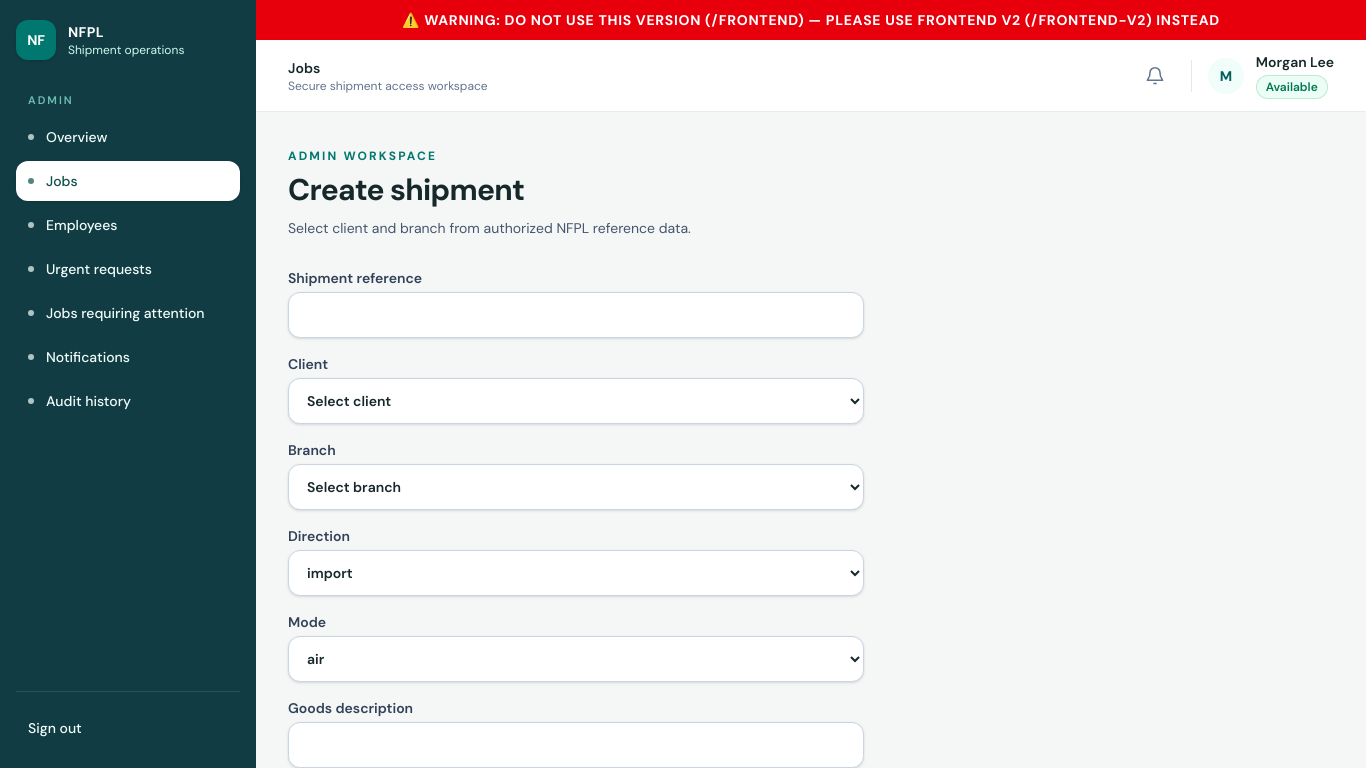
Test case: Phase 6B Admin workflows › creates a job using human-readable client and branch selections
This screenshot has width=1366, height=768.
Type "NFPL-104" into the field labelled "Shipment reference" at (576, 315), box x1=288 y1=292 x2=864 y2=338
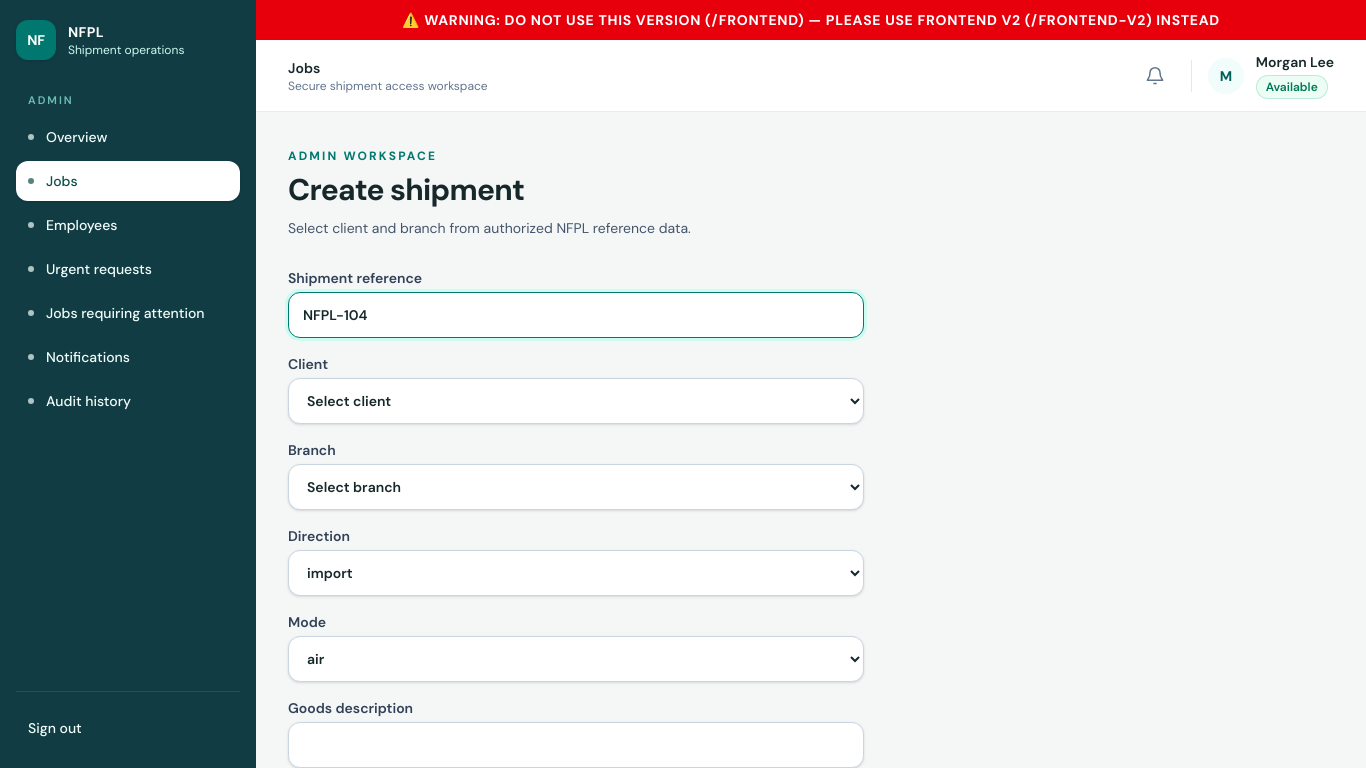
Select "Acme Imports (ACME)" in the dropdown labelled "Client" at (576, 401), box x1=288 y1=378 x2=864 y2=424
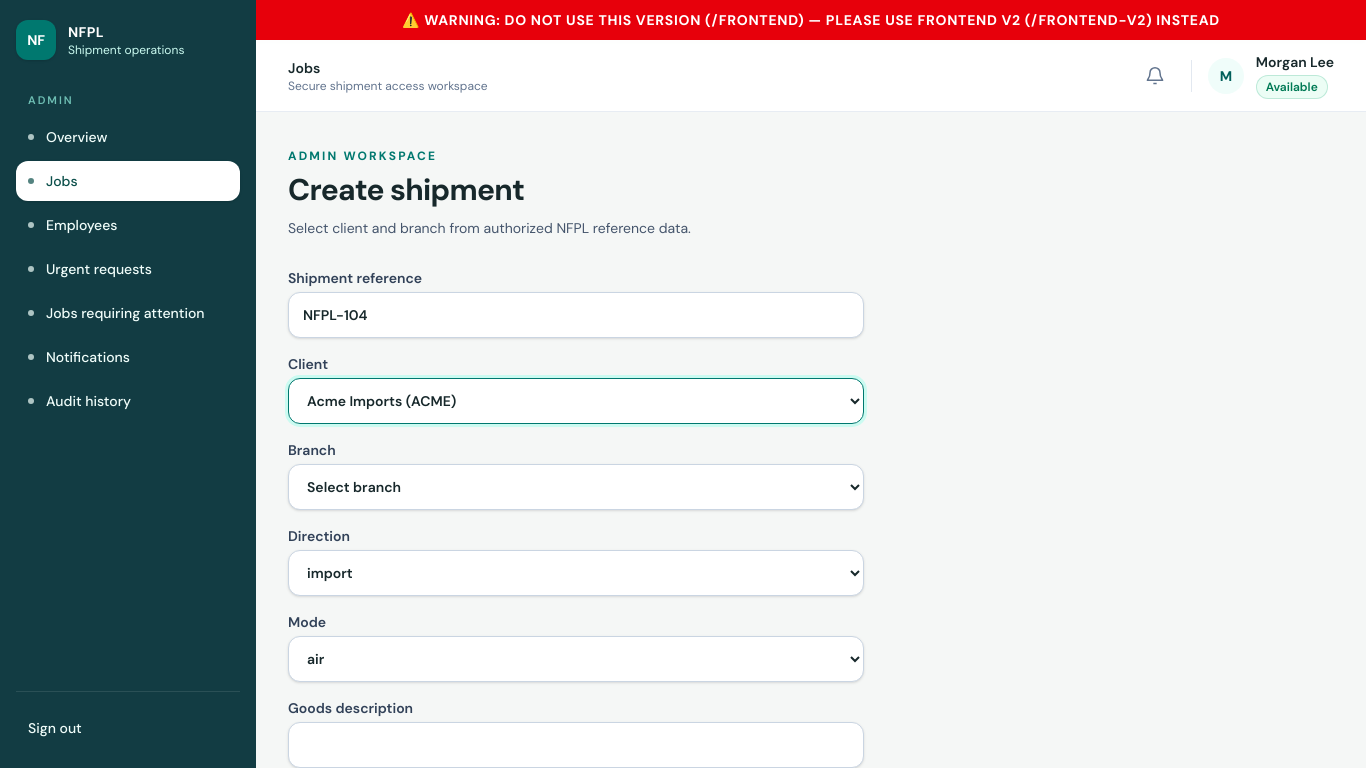
Select "Mumbai (MUM)" in the dropdown labelled "Branch" at (576, 487), box x1=288 y1=464 x2=864 y2=510
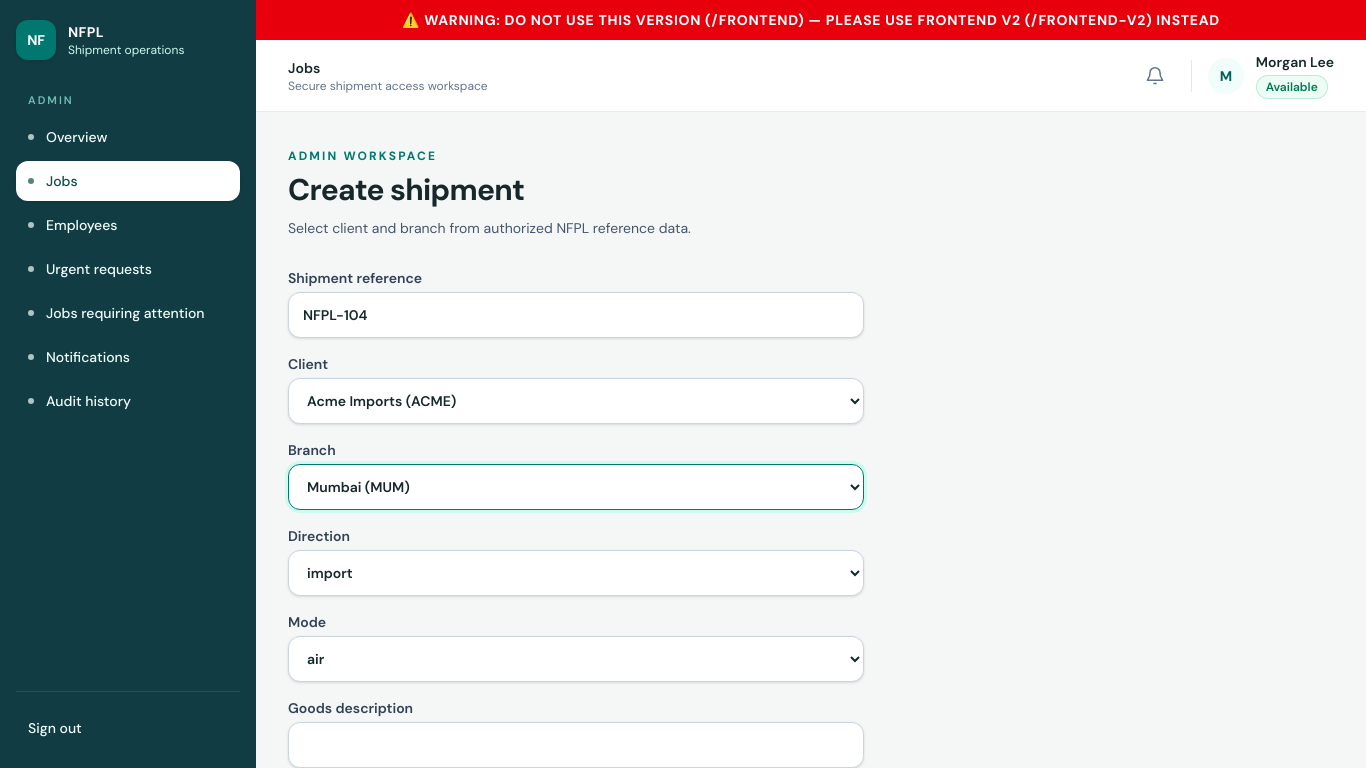
Type "Machine parts" into the field labelled "Goods description" at (576, 745), box x1=288 y1=722 x2=864 y2=767
(page scrolled)
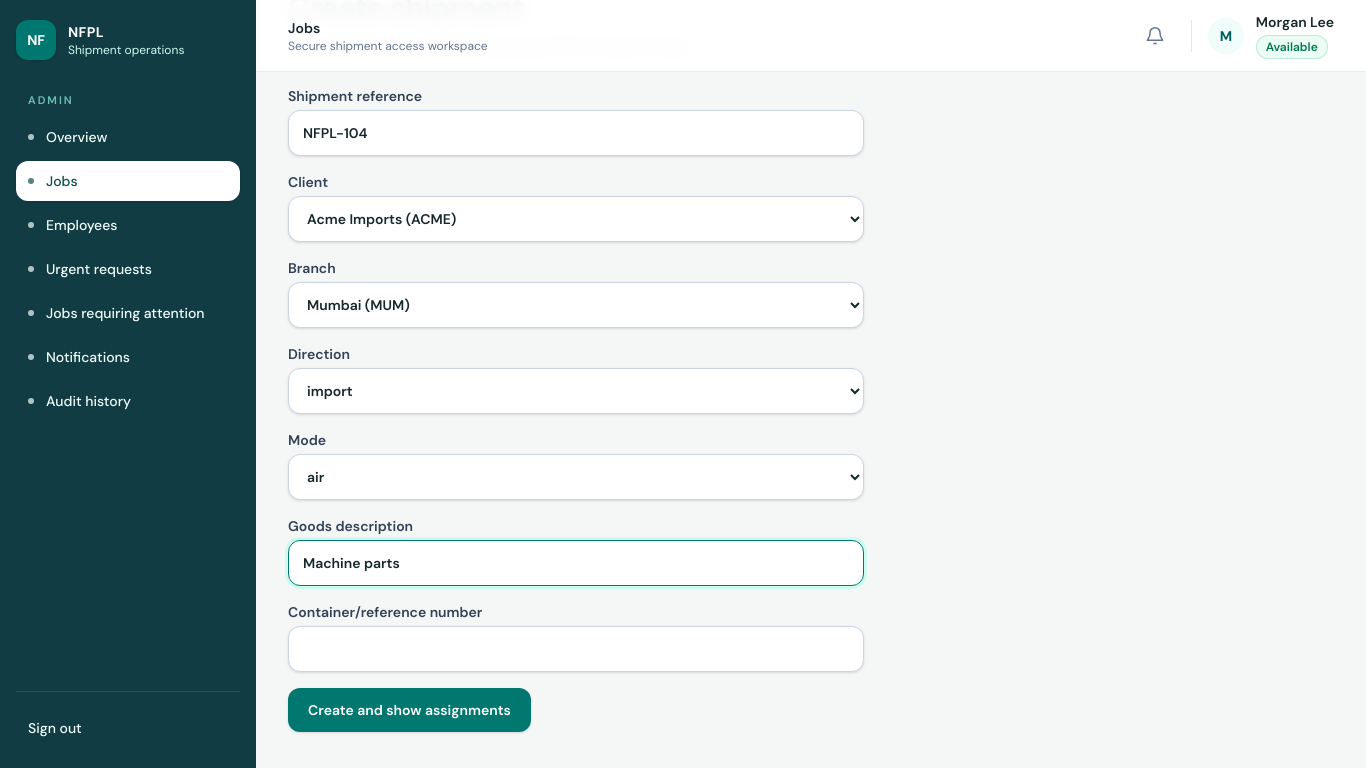
Click the button "Create and show assignments" at (409, 710), box x1=288 y1=688 x2=531 y2=732
(page scrolled)
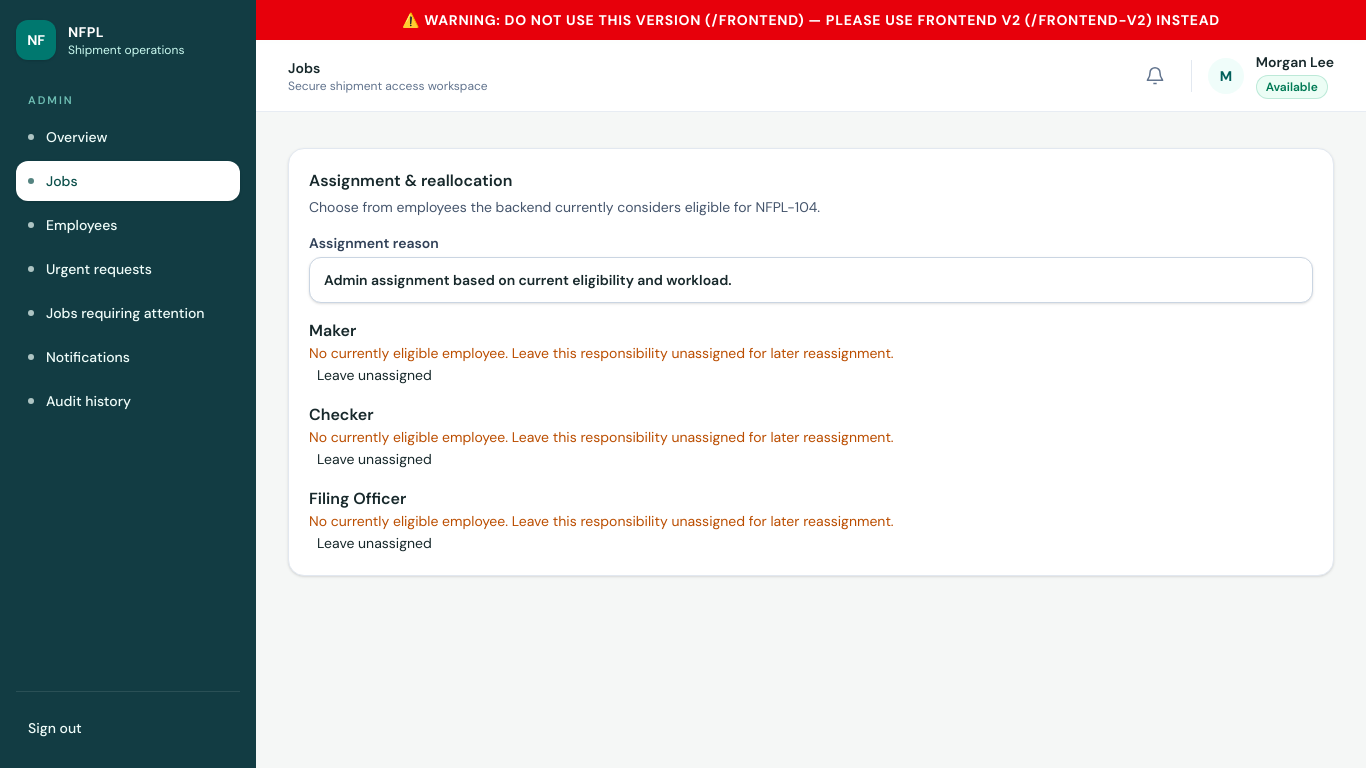
Expected: the text "Assignment & reallocation" is shown, x1=309 y1=170 x2=512 y2=191
